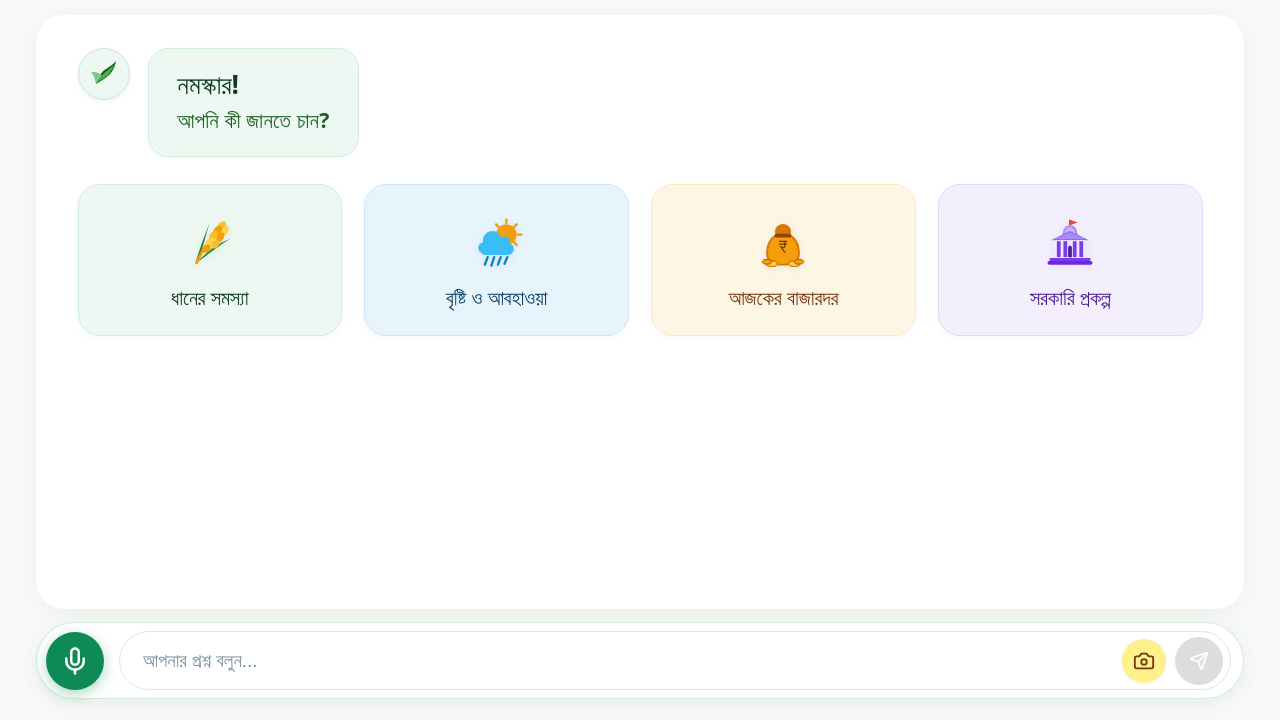
Test: SupervisorHomeView Redesigned Unit & Integration Tests › submits a visual suggestion card, routes through supervisor and renders tools, citations, and TTS button
Click the button "ধানের সমস্যা" at (210, 260), box [78, 184, 342, 336]
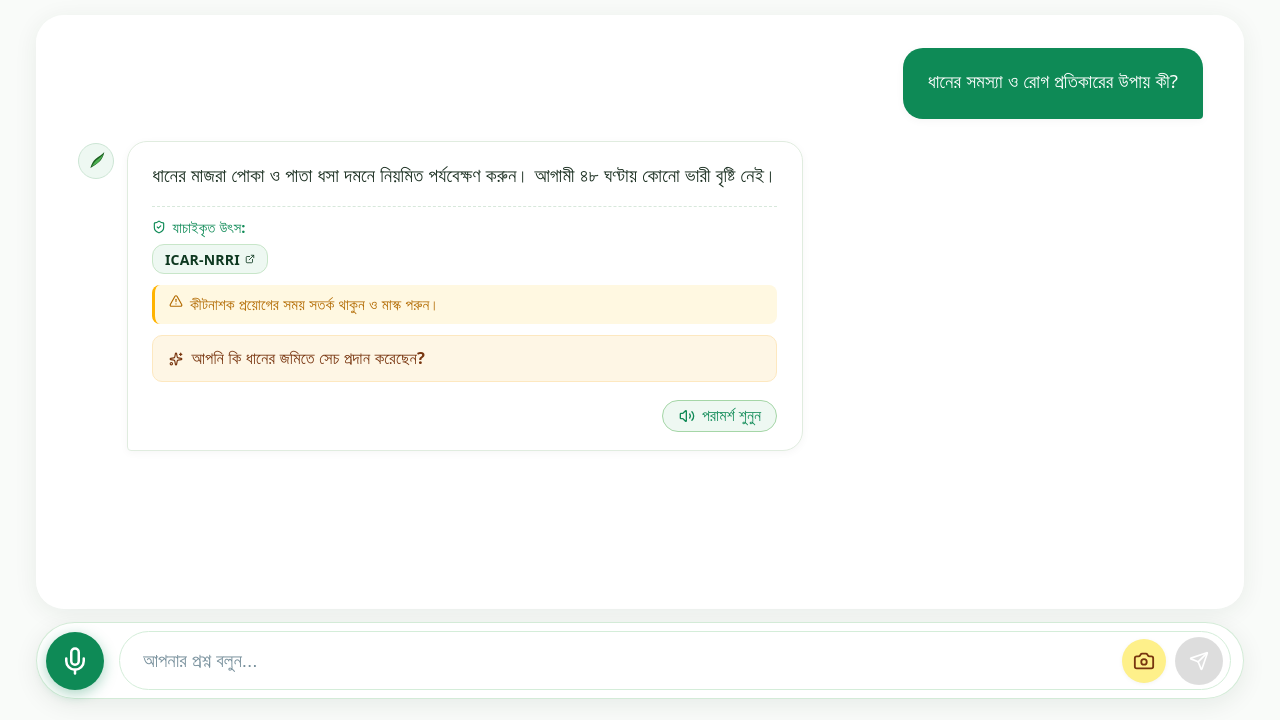
expect the text "ধানের মাজরা পোকা ও পাতা ধসা দমনে নিয়মিত পর্যবেক্ষণ করুন" is shown: met, box [152, 162, 777, 188]
expect the text "ICAR-NRRI" is shown: met, box [165, 249, 240, 270]
expect the text "কীটনাশক প্রয়োগের সময় সতর্ক থাকুন ও মাস্ক পরুন।" is shown: met, box [190, 294, 440, 316]
